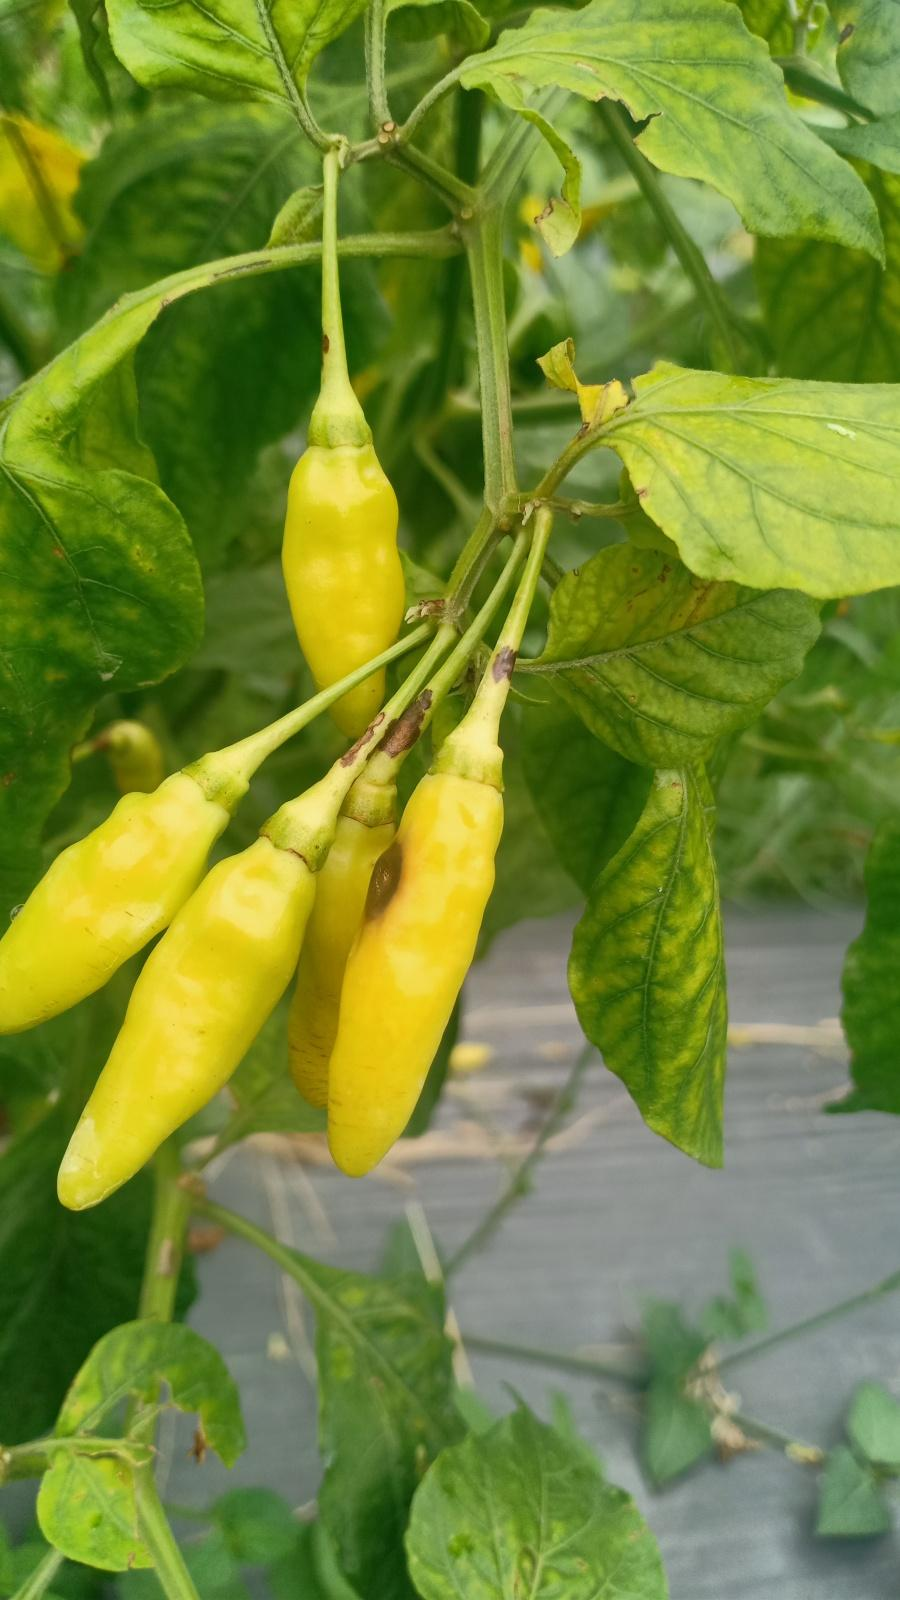antraknosa: (320, 764, 510, 1176)
cabai_normal: (55, 837, 318, 1211), (0, 766, 240, 1029), (284, 443, 410, 736)
